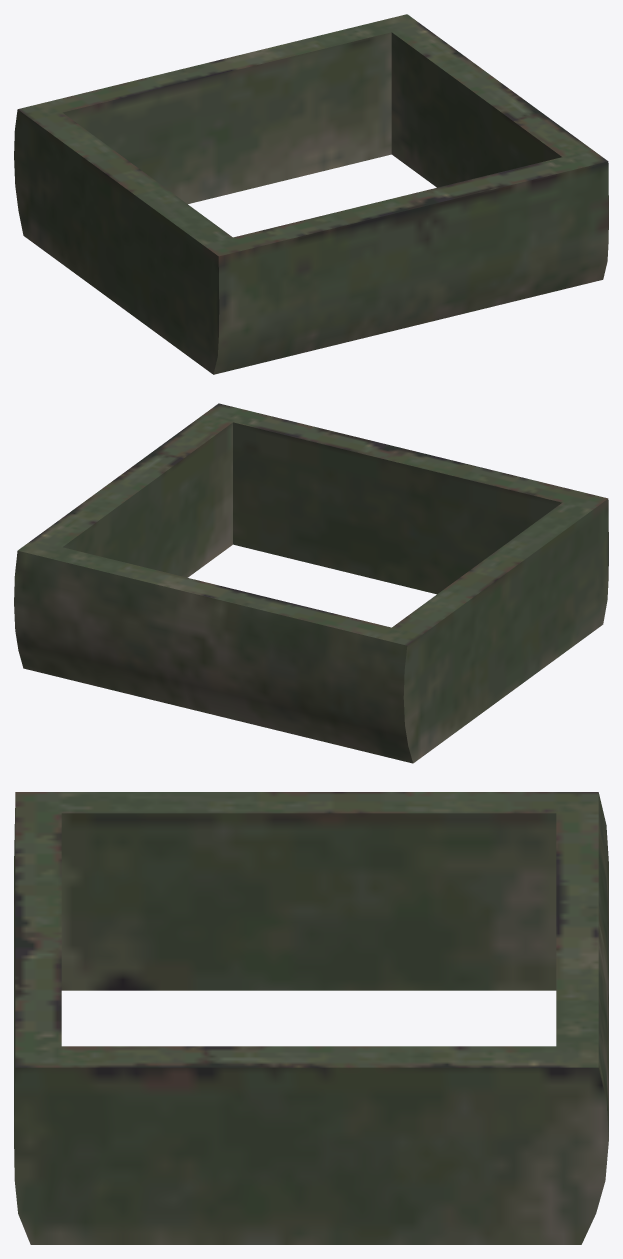
Rendered from Turret_01.glb.
The picture shows the model from 3 angles, top to bottom: view 1: azimuth 30°, elevation 25°; view 2: azimuth 150°, elevation 25°; view 3: azimuth 270°, elevation 25°; orthographic projection. The views are drawn at different scales.
Visible parts, largest first — view 1: set_0_group_0; view 2: set_0_group_0; view 3: set_0_group_0.
Part boxes in pixels (x1,y1,x2,y2): set_0_group_0: (14, 14, 608, 374); set_0_group_0: (14, 403, 608, 763); set_0_group_0: (14, 792, 608, 1244).
Size of the model in its own units: 0.8547 by 0.2562 by 0.7796.
1 material, 1 textured.
